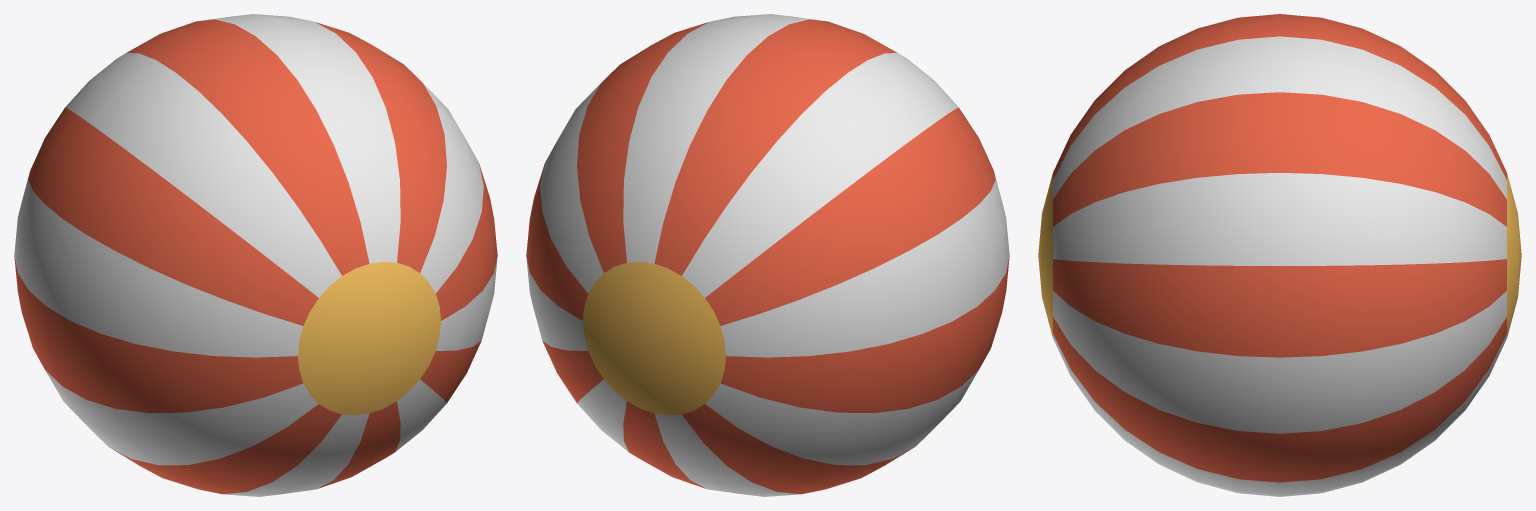
File: ball.fbx
3 renders of one model, left to right at view 1: azimuth 30°, elevation 25°; view 2: azimuth 150°, elevation 25°; view 3: azimuth 270°, elevation 25°, orthographic.
Parts seen in each view (by area): view 1: Sphere; view 2: Sphere; view 3: Sphere.
Boxes of the visible parts, x1,y1,x2,y2 form: Sphere: [14, 14, 497, 496]; Sphere: [526, 14, 1009, 496]; Sphere: [1038, 14, 1521, 496].
Size of the model in its own units: 200 by 200 by 200.
